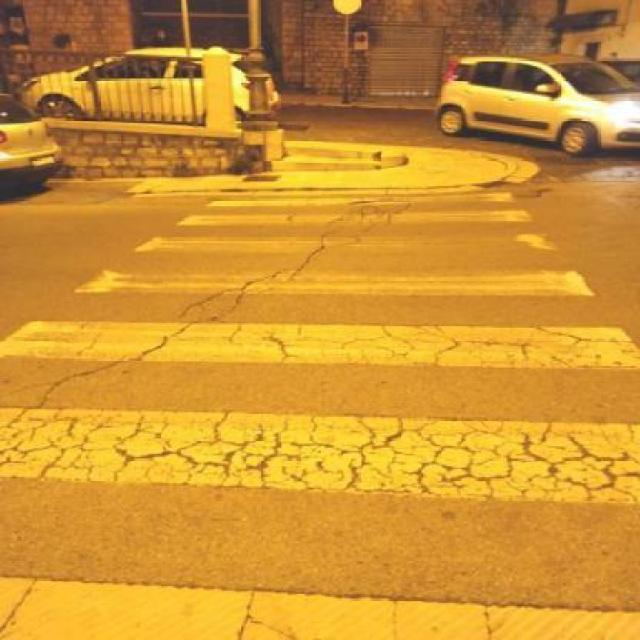crosswalk: (1, 191, 640, 640)
